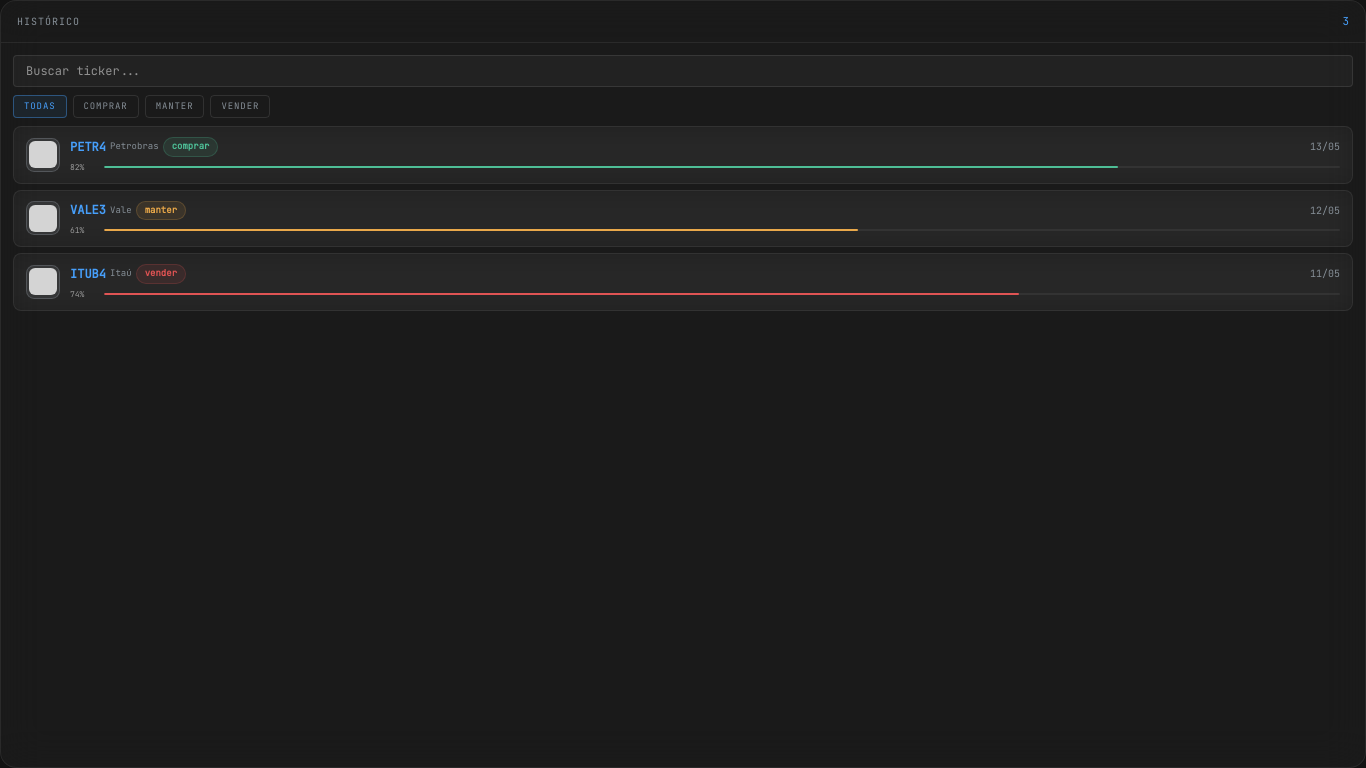
Test case: HistoryDrawer › filtra por recomendação ao clicar em chip
Expected: the text "PETR4" is shown, [70,138,106,156]
What coordinates should you click on to do the following:
click the button "Comprar"
I would click on:
 (106, 106)
Its box is [72,94,139,118].
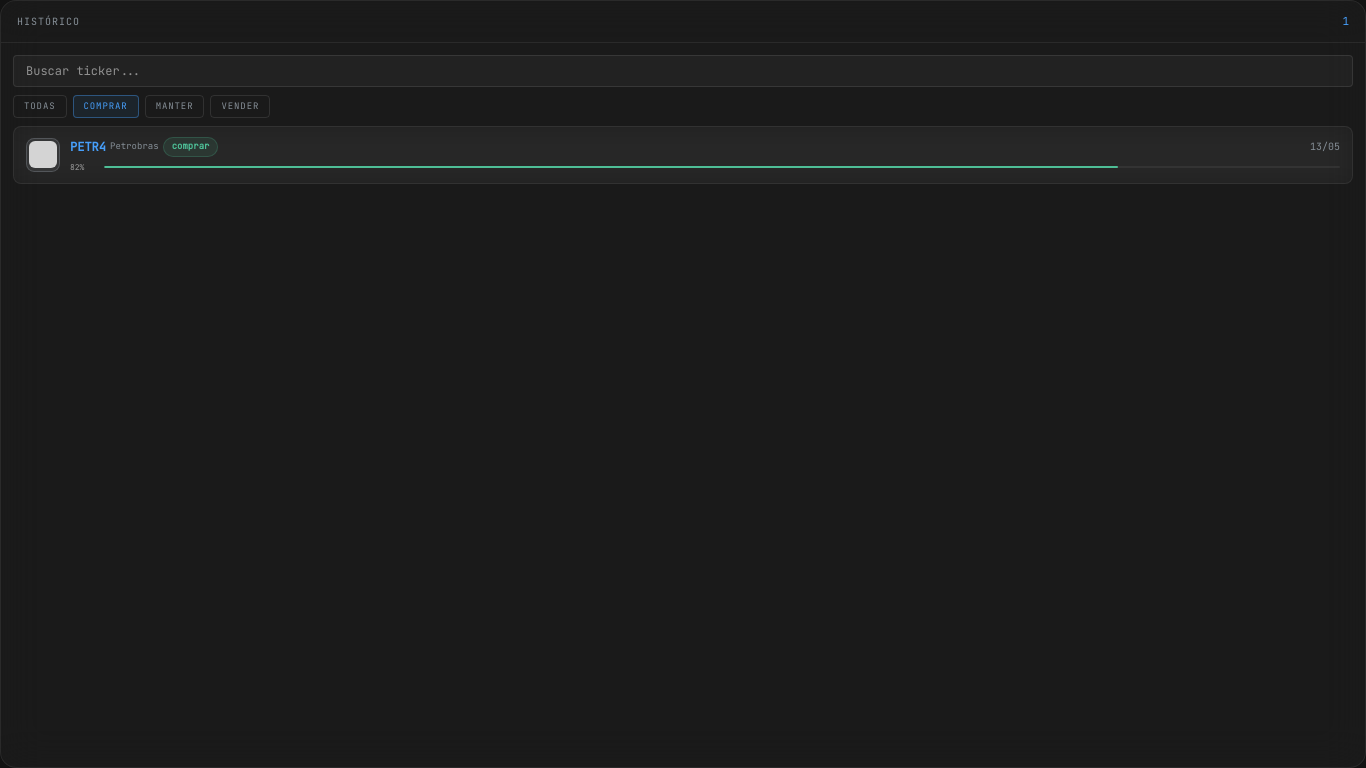
Expected: the text "PETR4" is shown, [70,138,106,156]
Expected: the button "VALE3" is gone
Expected: the button "ITUB4" is gone
